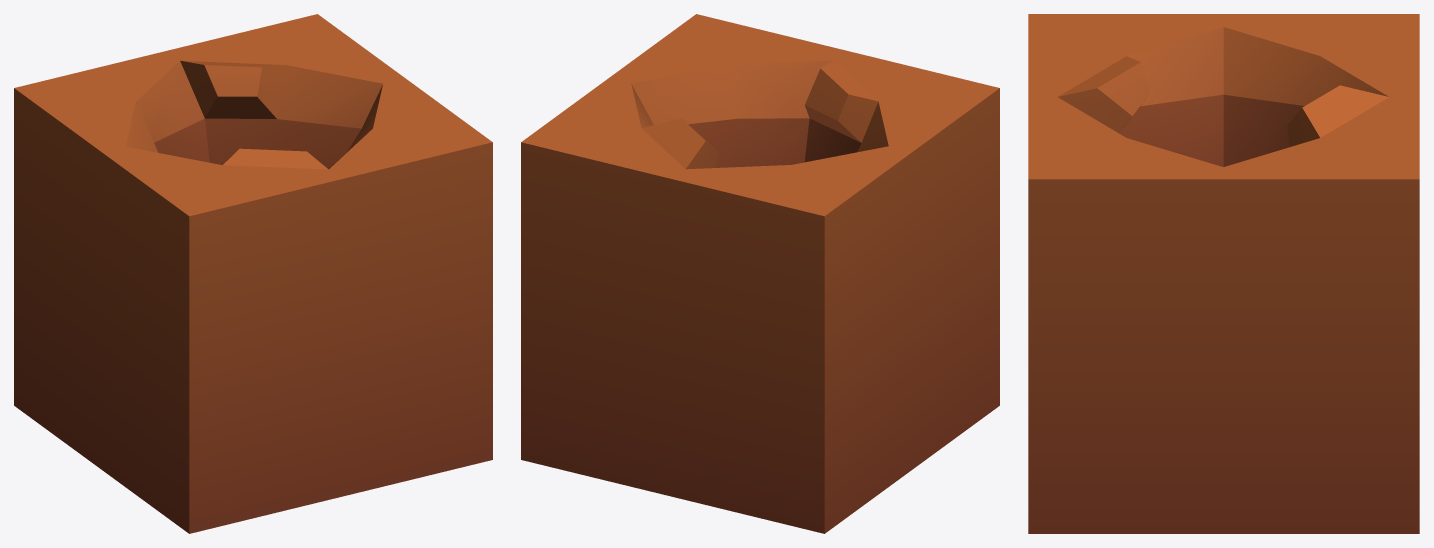
The model's file is space-terrain-mining.glb.
3 renders of one model, left to right at view 1: azimuth 30°, elevation 25°; view 2: azimuth 150°, elevation 25°; view 3: azimuth 270°, elevation 25°, orthographic. The views are drawn at different scales.
Visible parts, largest first — view 1: terrain_mining; view 2: terrain_mining; view 3: terrain_mining.
Boxes of the visible parts, x1,y1,x2,y2 form: terrain_mining: (14,14,492,533); terrain_mining: (521,14,999,533); terrain_mining: (1028,14,1419,533).
Bounding box in the file's own units: 2 × 2.07 × 2.
